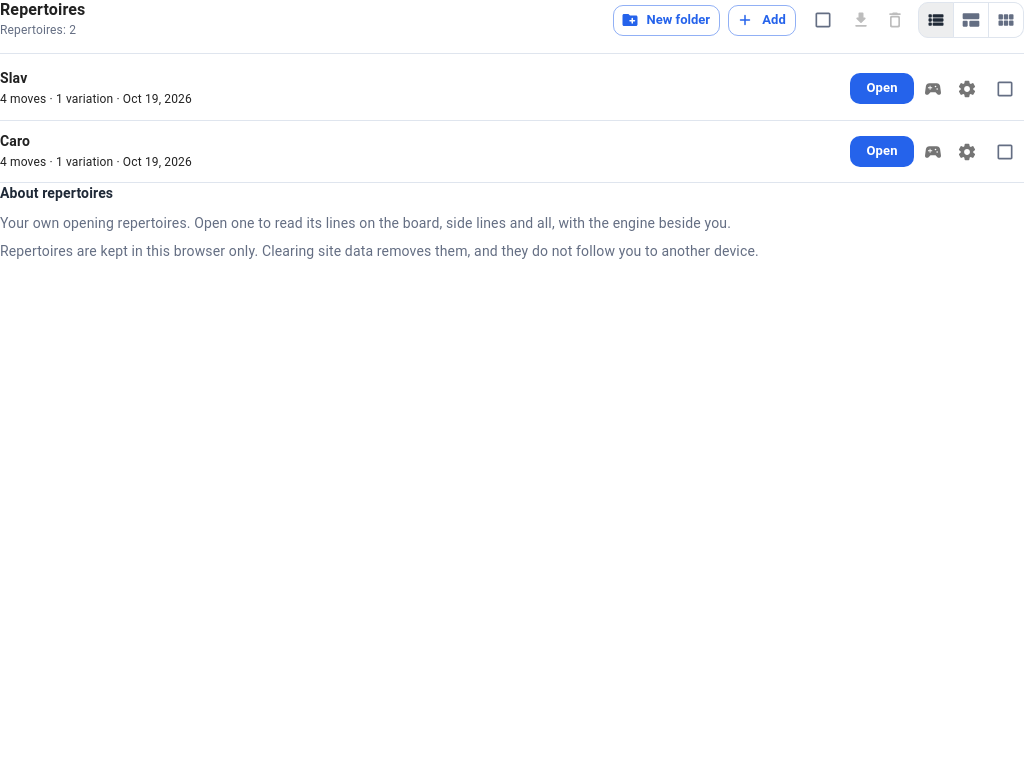
Test: the Repertoires list › picks, downloads and deletes on the cards too, keeping the picks across views
The width and height of the screenshot is (1024, 768).
Click the checkbox named "Select Caro" at (1005, 152), box left=995, top=142, right=1015, bottom=162
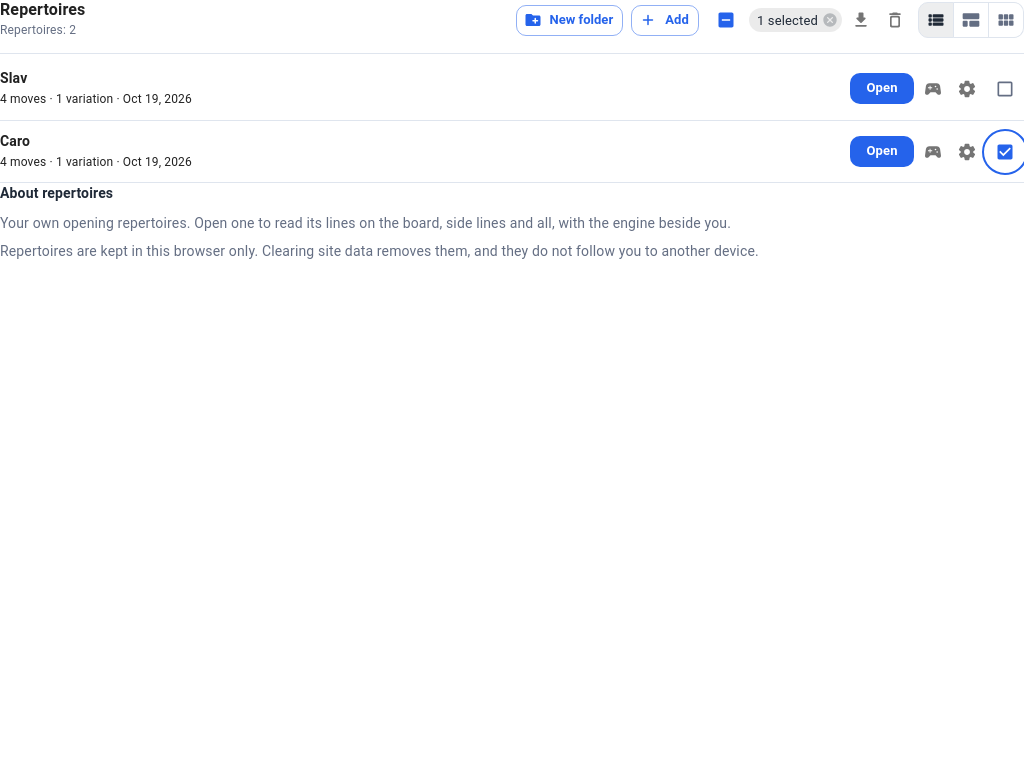
Click the button with test id "repertoires-view-compact" at (971, 20), box left=953, top=2, right=989, bottom=38
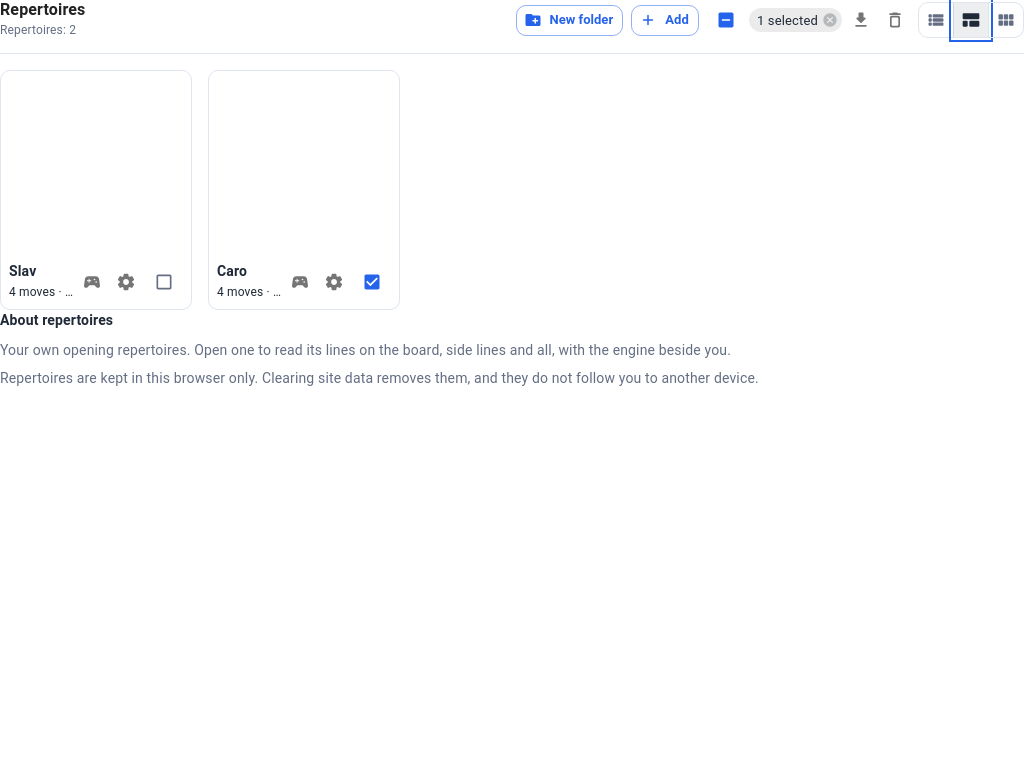
Result: the checkbox named "Select Caro" is checked at left=362, top=272, right=382, bottom=292
Result: the button with test id "repertoires-selected-count" shows "1" at left=749, top=8, right=842, bottom=32
Result: the button with test id "repertoires-download" is enabled at left=846, top=5, right=876, bottom=35
Click the button with test id "repertoires-view-comfortable" at (1006, 20), box left=988, top=2, right=1023, bottom=38
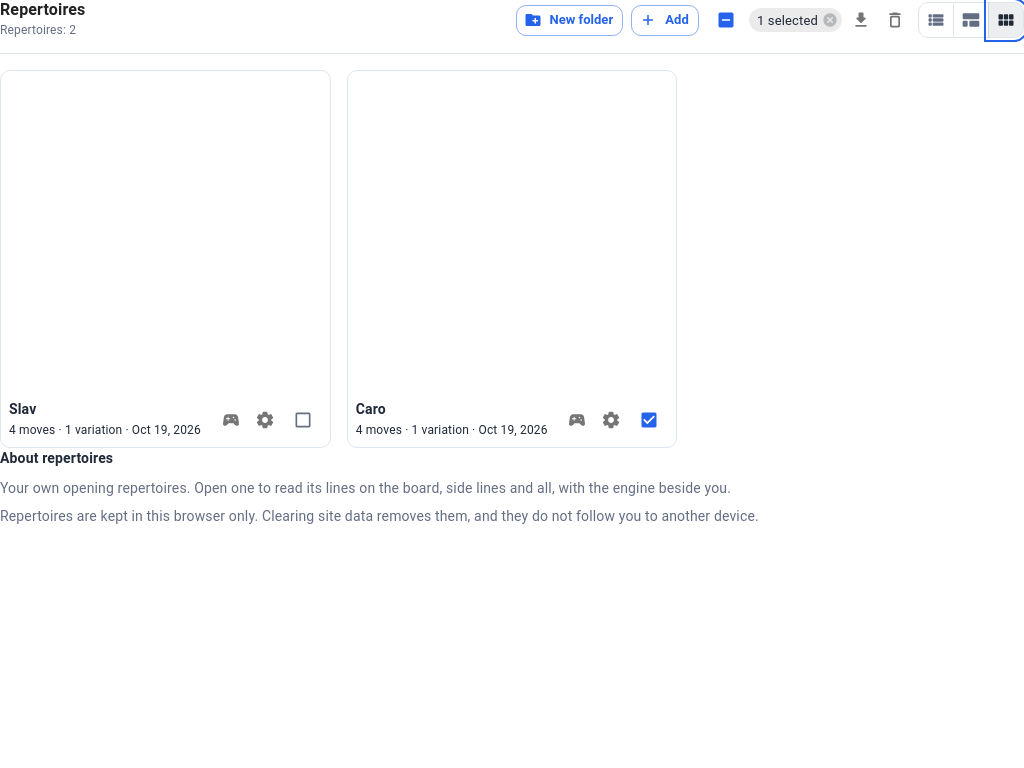
Result: the checkbox named "Select Caro" is checked at left=639, top=410, right=659, bottom=430
Result: the button with test id "repertoires-selected-count" shows "1" at left=749, top=8, right=842, bottom=32
Result: the button with test id "repertoires-download" is enabled at left=846, top=5, right=876, bottom=35
Click the checkbox named "Select Slav" at (303, 420), box left=293, top=410, right=313, bottom=430
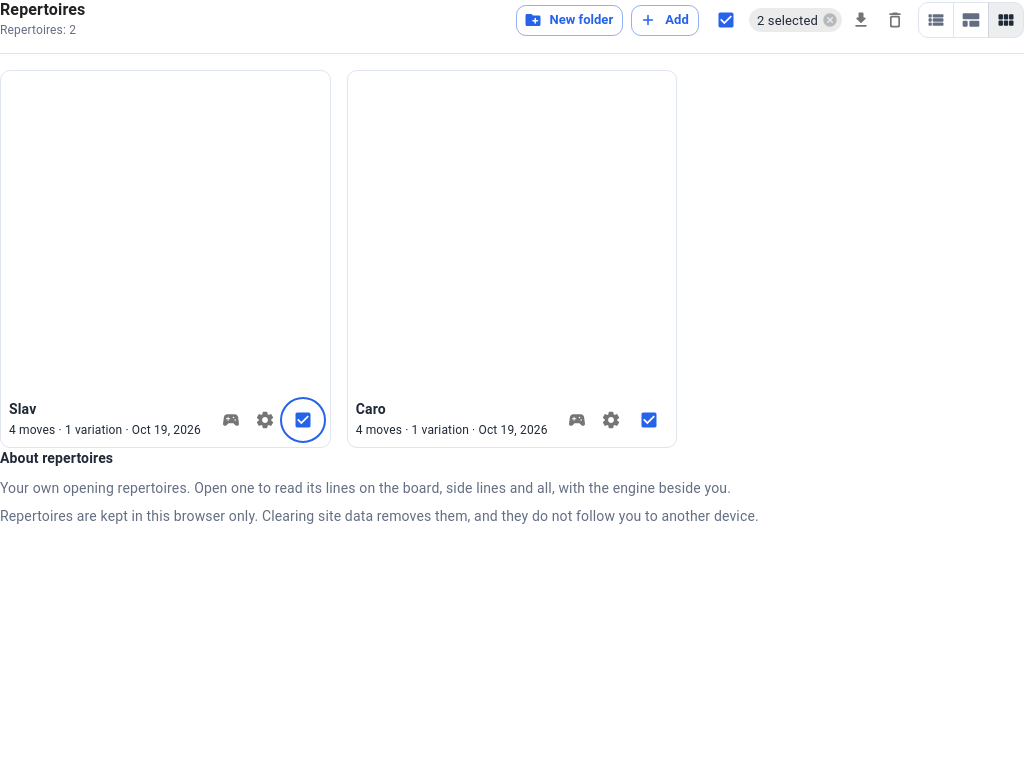
Result: the button with test id "repertoires-selected-count" shows "2" at left=749, top=8, right=842, bottom=32
Click the button with test id "repertoires-delete" at (895, 20), box left=880, top=5, right=910, bottom=35
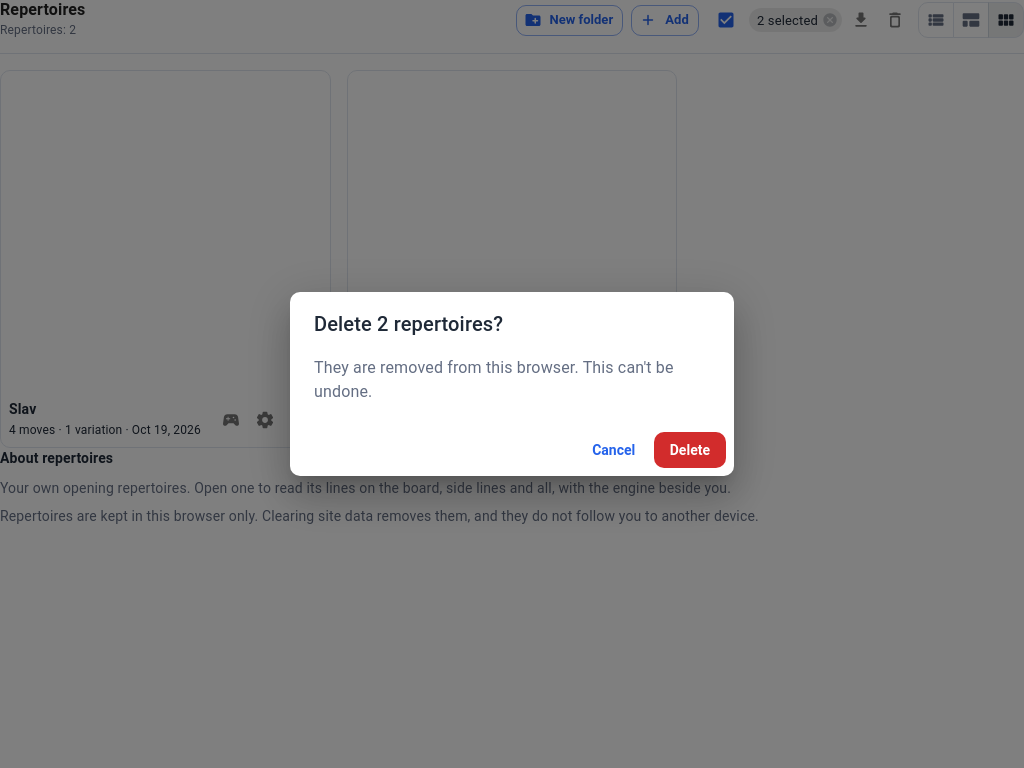
Click the button with test id "repertoires-delete-confirm" at (690, 450), box left=654, top=432, right=726, bottom=468
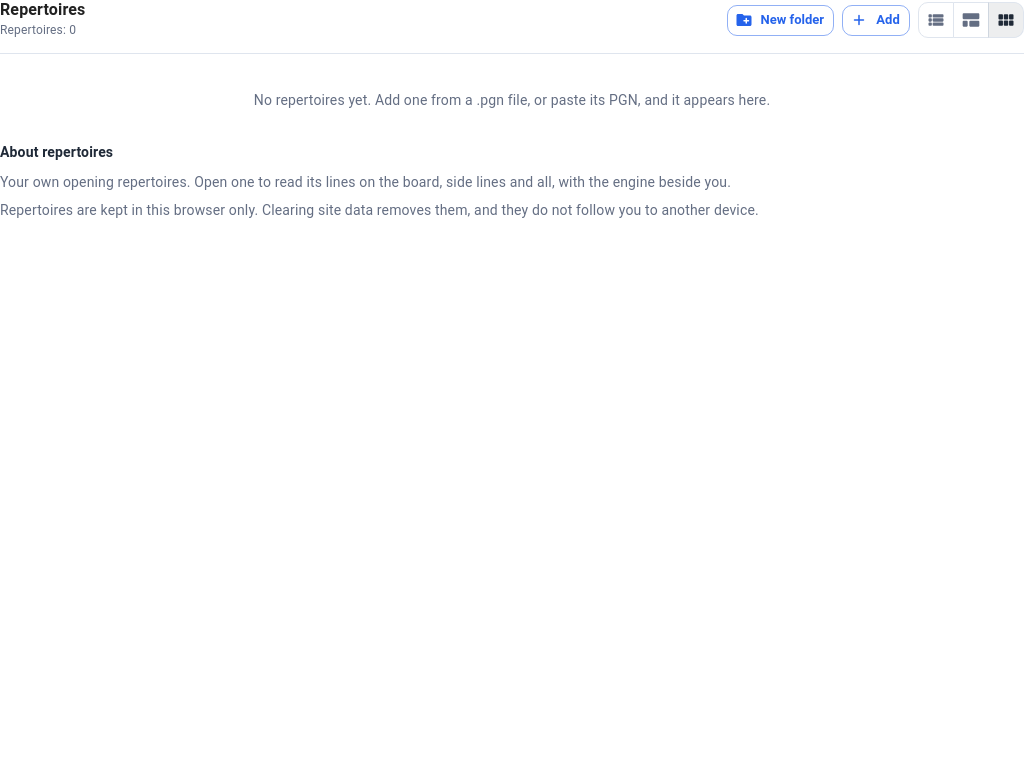
Result: the element with test id "repertoires-empty" is shown at left=254, top=92, right=770, bottom=108
